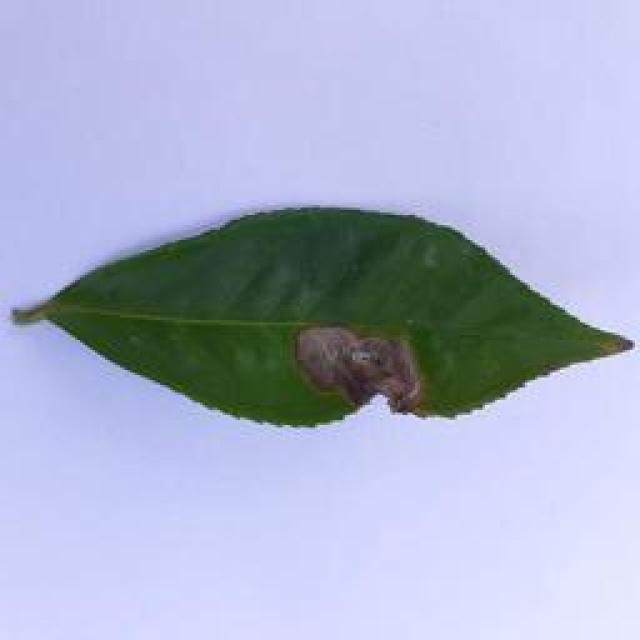Gray Blight: (9, 201, 638, 437)
